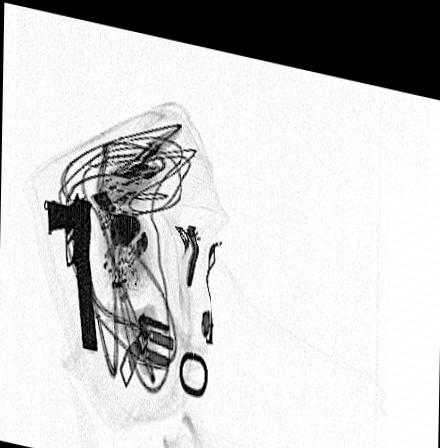Gun: (46, 186, 104, 351)
